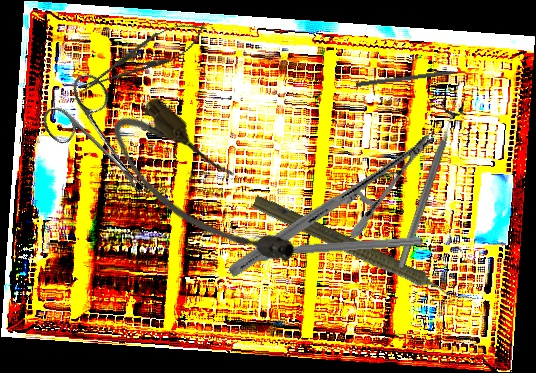Cannula: (97, 88, 309, 296)
Fixation Ring: (387, 100, 467, 273), (247, 222, 424, 263)
Handpiece: (247, 190, 463, 312)
Iris Scissors: (33, 68, 173, 215)
Needle Holder: (226, 80, 436, 330), (72, 10, 213, 105)
Pusher: (356, 67, 472, 89)
